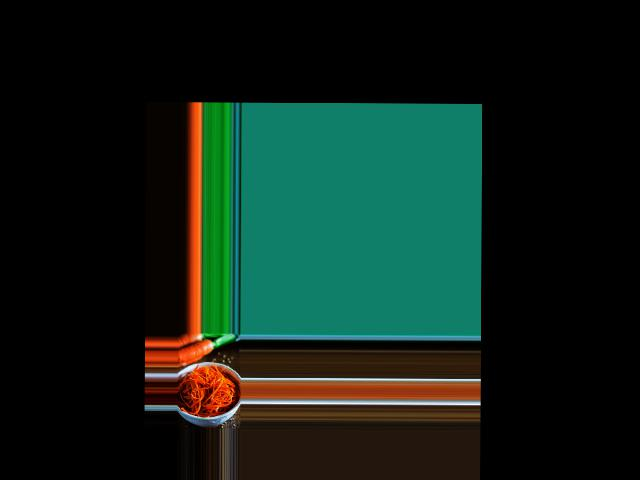carrot: (178, 340, 216, 361)
